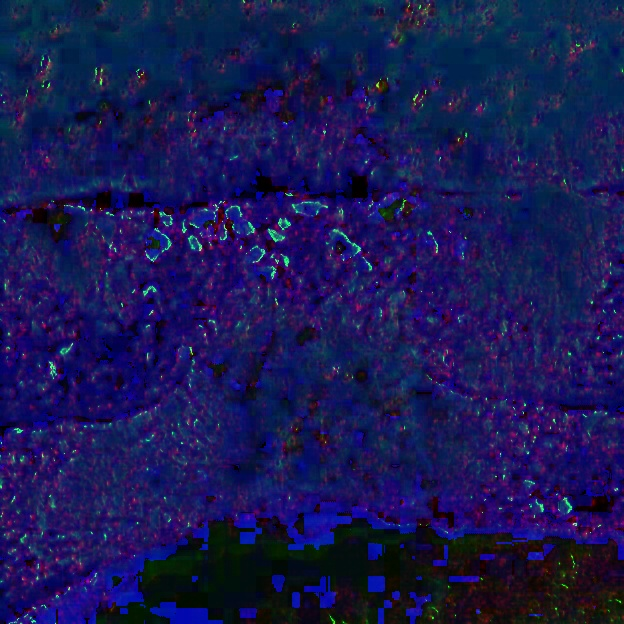rip_current: (176, 203, 449, 505)
